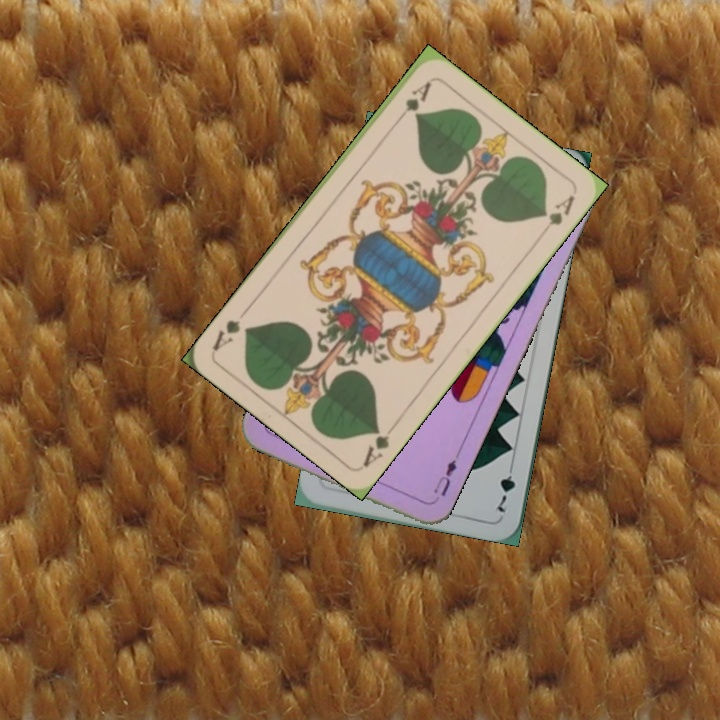EU: (428, 455, 459, 505)
G7: (493, 458, 518, 516)
GA: (391, 77, 435, 127), (358, 420, 400, 470)
